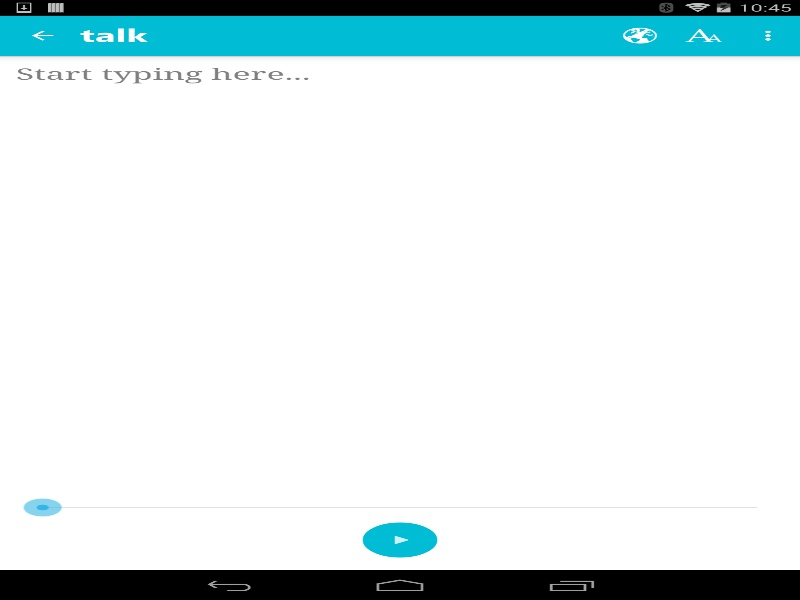Button: (362, 522, 437, 557), (0, 18, 74, 53)
Input: (0, 55, 800, 570)
